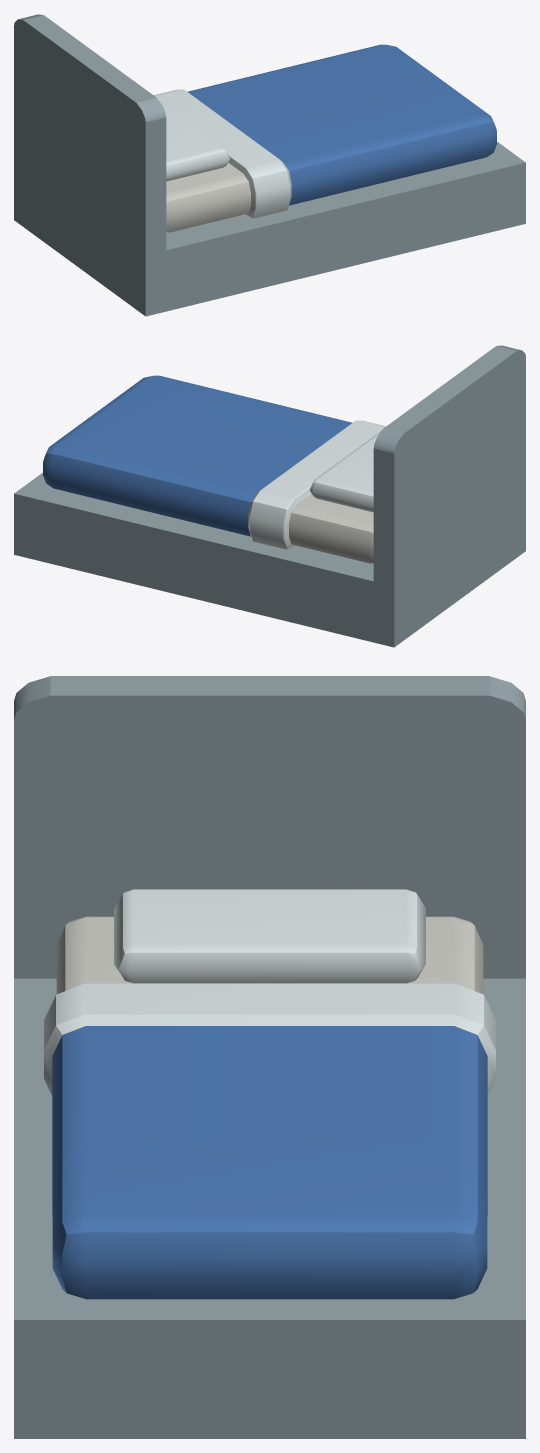
File: Bed.fbx
3 renders of one model, top to bottom at view 1: azimuth 30°, elevation 25°; view 2: azimuth 150°, elevation 25°; view 3: azimuth 270°, elevation 25°, orthographic. The views are drawn at different scales.
Parts seen in each view (by area): view 1: Base, Matress, Pillow; view 2: Base, Matress, Pillow; view 3: Base, Matress, Pillow.
Boxes of the visible parts, box(x1,y1,x2,y2) form: Base: box(14, 14, 525, 316); Matress: box(154, 44, 496, 232); Pillow: box(158, 99, 229, 181); Base: box(14, 345, 525, 647); Matress: box(43, 375, 385, 563); Pillow: box(310, 430, 381, 512); Base: box(14, 676, 525, 1438); Matress: box(44, 916, 495, 1299); Pillow: box(114, 889, 425, 983).
Size of the model in its own units: 20 by 10.4 by 12.
